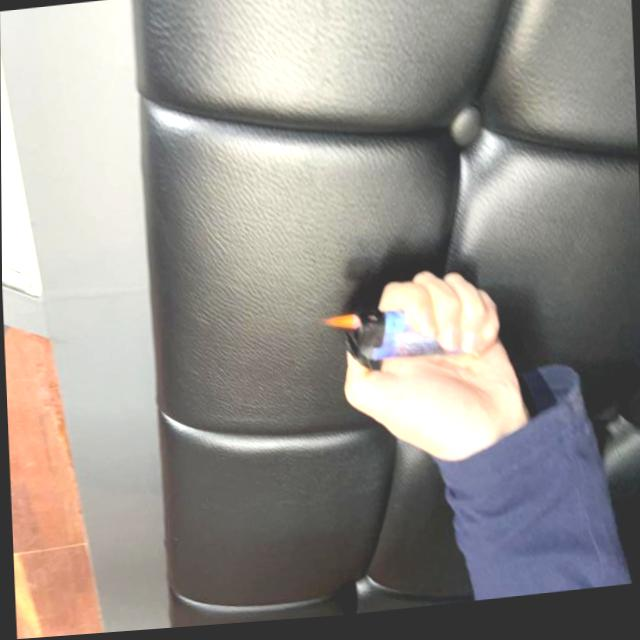helmet: (318, 320, 359, 339)
